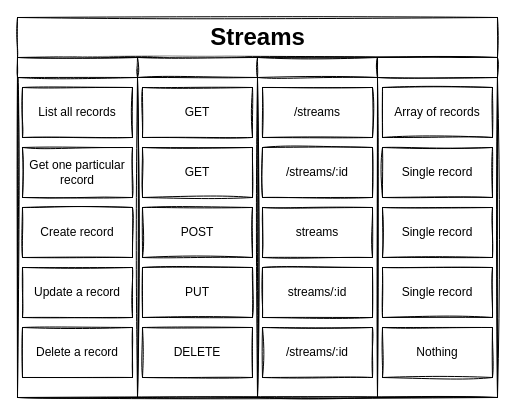
The diagram is 515 pixels wide and 415 high, and some of its shapes have lost their labels. The shapes that lost their labels are listed below. From the top down, each one's box as (x1, y1, x2, y2) in pixels, then its label:
(16, 56, 138, 398): Action
(136, 56, 258, 398): Method
(256, 56, 378, 398): Route
(376, 56, 498, 398): Response
